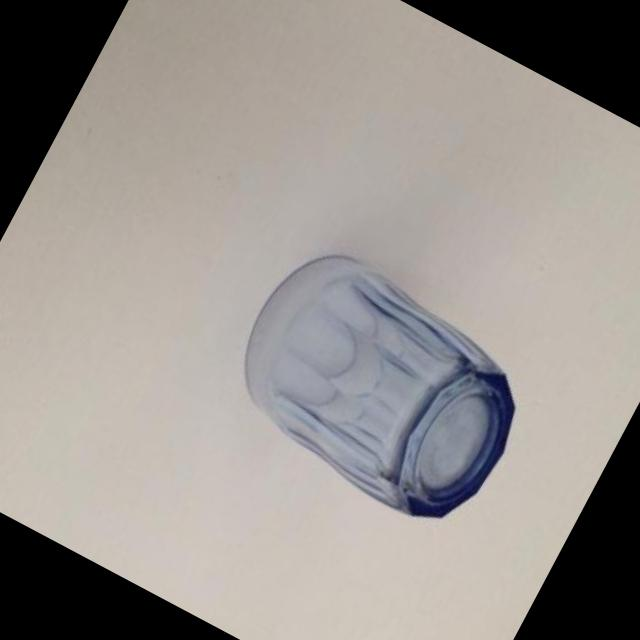BotolKaca: (205, 230, 552, 546)
